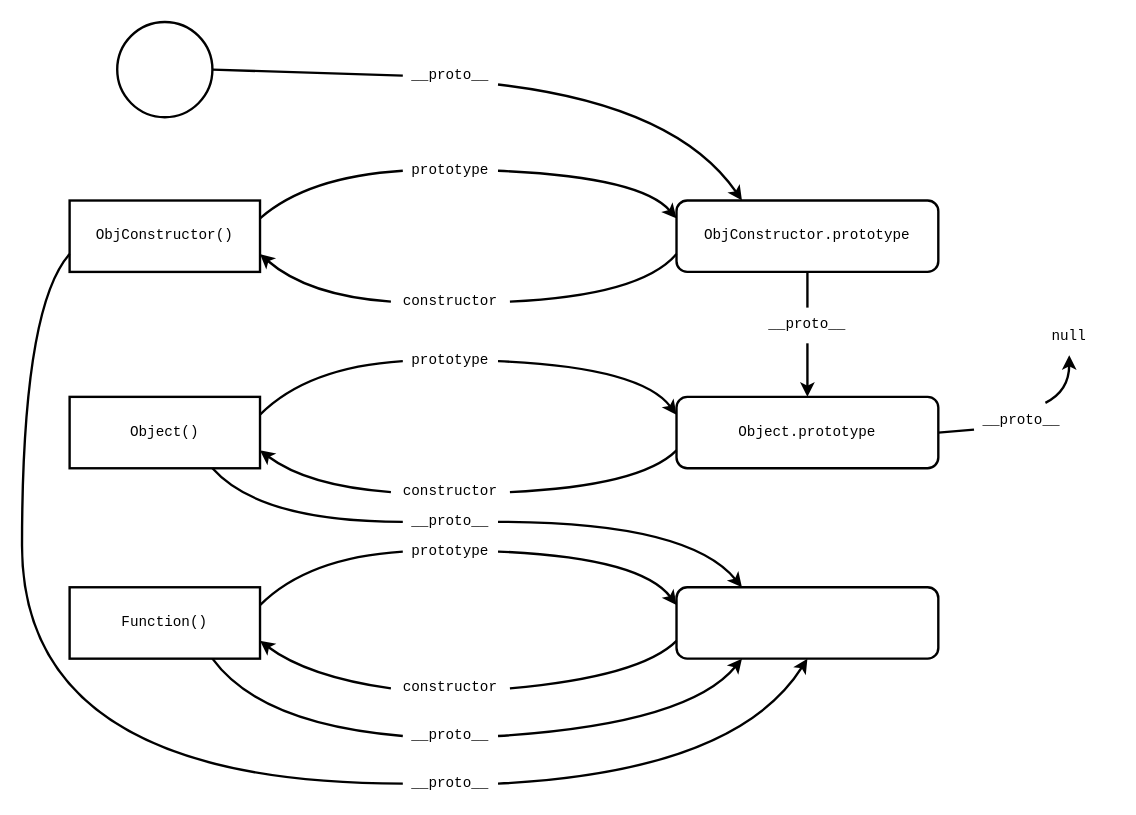
Some shapes in this 1136 by 815 pixel diagram are drawn without their labels. The shapes that lost their labels are listed below. From the top down, each one's centre as x and y in pixels, then its label:
At (x=164, y=69): "obj1".
At (x=807, y=622): "Function.prototype".
